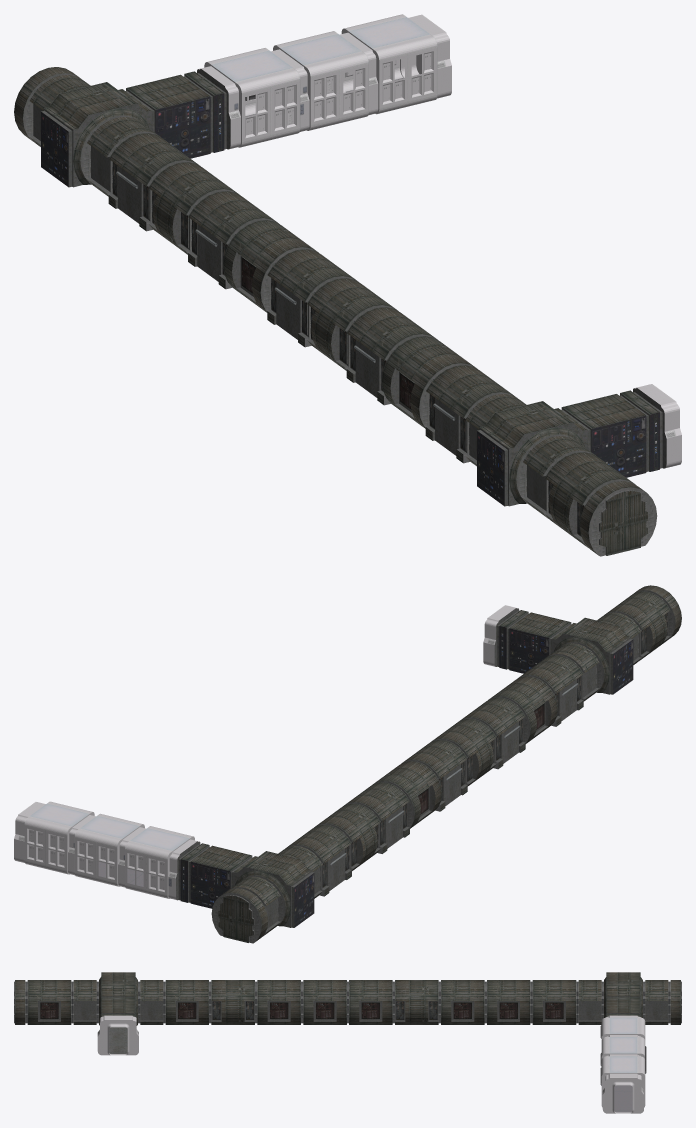
File: thm_spc_corvette_dungeon_r39_escapepods39_mesh_r39.fbx
3 views of the same model, one above another, from view 1: azimuth 30°, elevation 25°; view 2: azimuth 150°, elevation 25°; view 3: azimuth 270°, elevation 25° (orthographic). The views are drawn at different scales.
Visible parts, largest first — view 1: mesh_node; view 2: mesh_node; view 3: mesh_node.
Boxes of the visible parts, x1=… form: mesh_node: x1=14, y1=14, x2=681, y2=556; mesh_node: x1=14, y1=585, x2=681, y2=943; mesh_node: x1=14, y1=972, x2=681, y2=1113.
Bounding box in the file's own units: 22.5 × 3.8 × 58.2.
